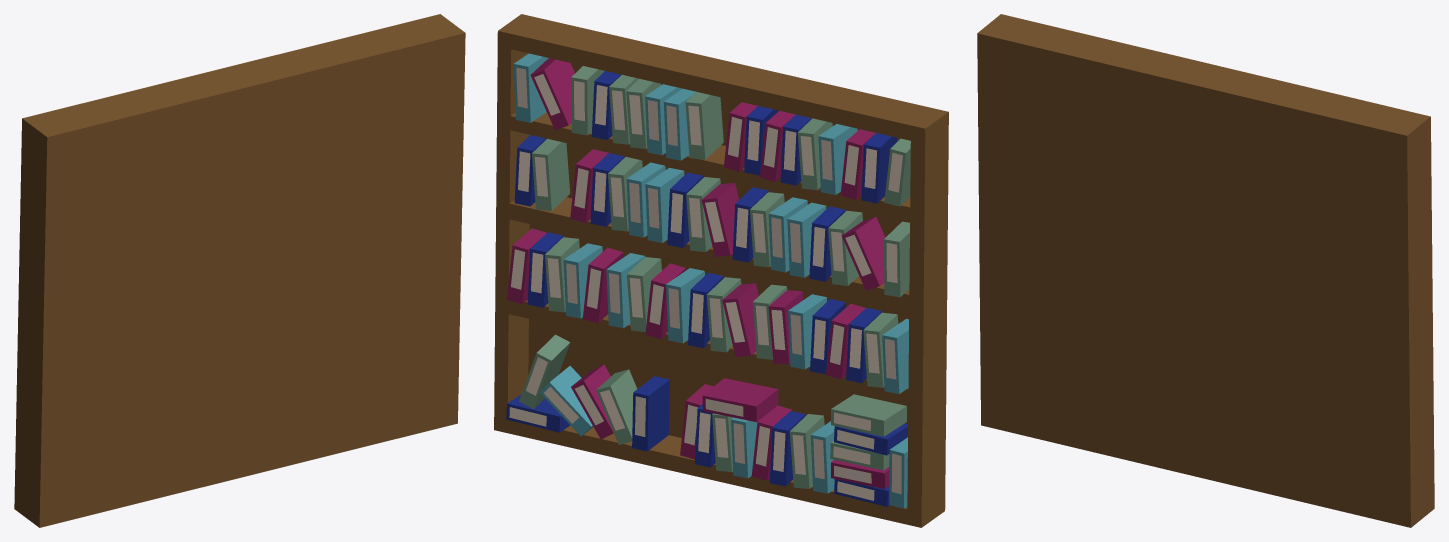
Rendered from Bibli_003.fbx.
The picture shows the model from 3 angles, left to right: view 1: azimuth 30°, elevation 25°; view 2: azimuth 150°, elevation 25°; view 3: azimuth 330°, elevation 25°; orthographic projection.
Visible parts, largest first — view 1: Bibliotheque01; view 2: Bibliotheque01; view 3: Bibliotheque01.
Boxes of the visible parts, x1,y1,x2,y2 form: Bibliotheque01: (14,14,465,527); Bibliotheque01: (494,14,948,527); Bibliotheque01: (977,14,1434,527).
Size of the model in its own units: 428 by 382 by 74.37.
